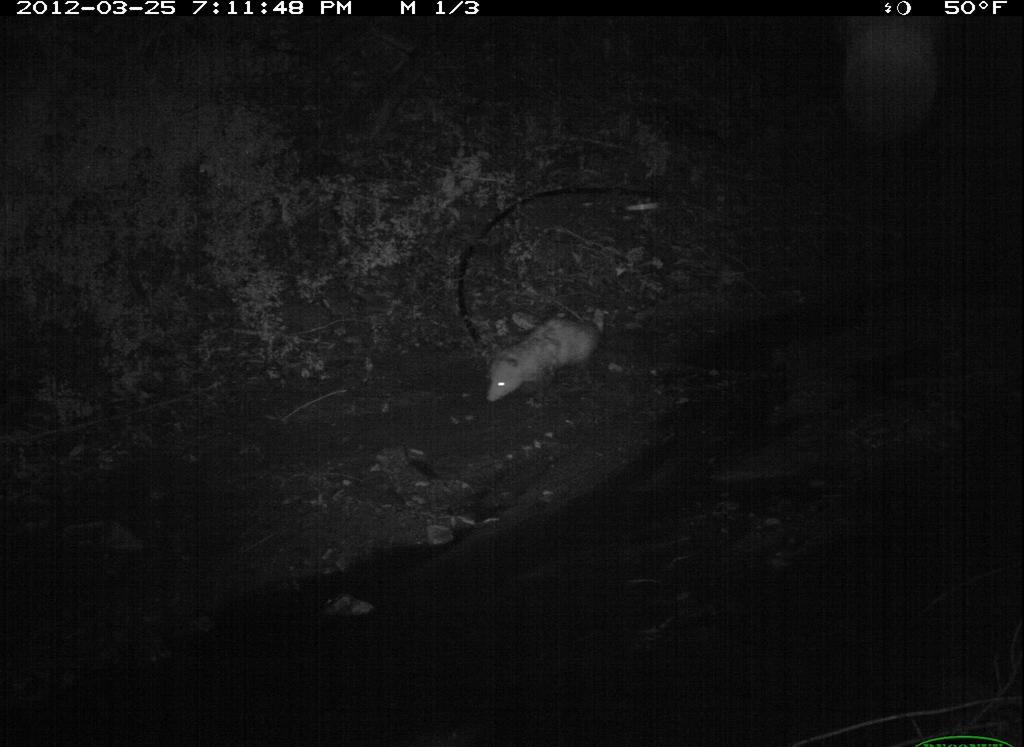opossum: (479, 297, 629, 409)
